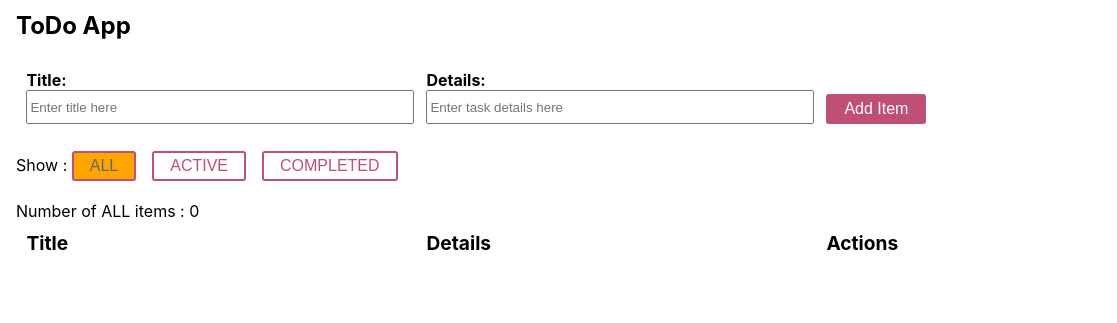
Test case: App › render App component with ACTIVE button click
This screenshot has width=1117, height=323.
Type "title" into the field with placeholder "Enter title here". click: point(220, 107)
box: [26,90,414,124]
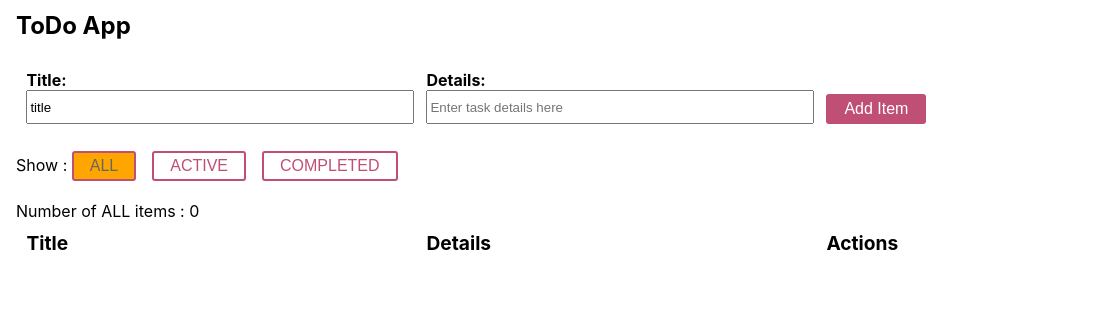
Type "details" into the field with placeholder "Enter task details here". click: point(620, 107)
box: [426,90,814,124]
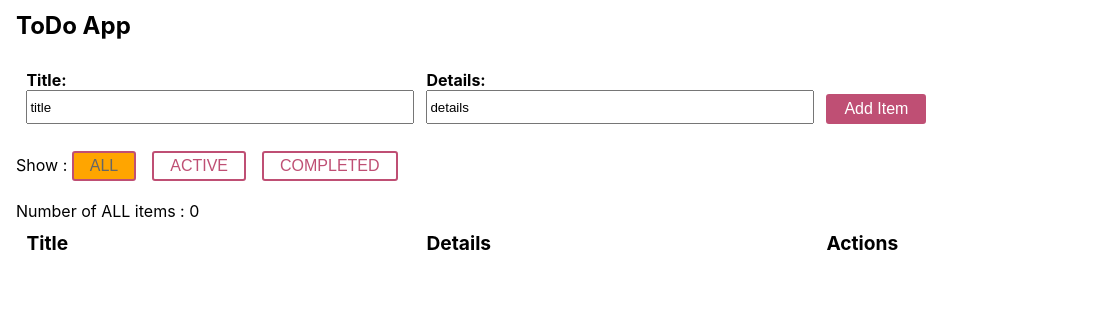
Expected: the text "Number of ALL items : 0" is shown, [16,201,199,221]
Click the button "Add Item". click: point(876, 109)
box: [826,94,926,124]
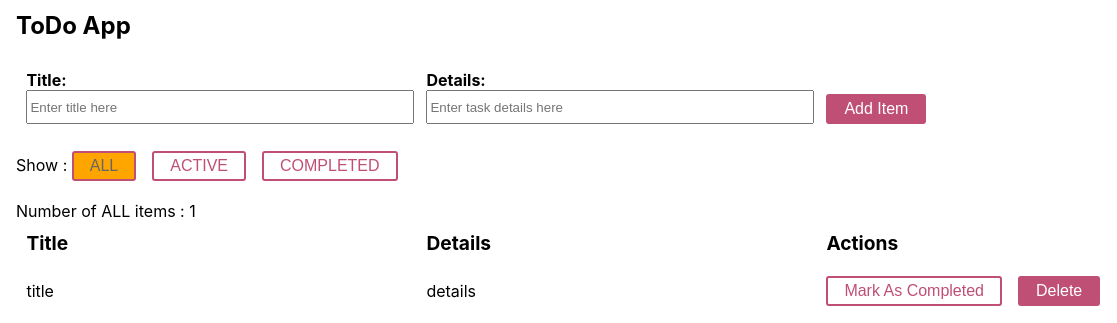
Click the button "ACTIVE". click: point(199, 166)
box: [152,151,246,181]
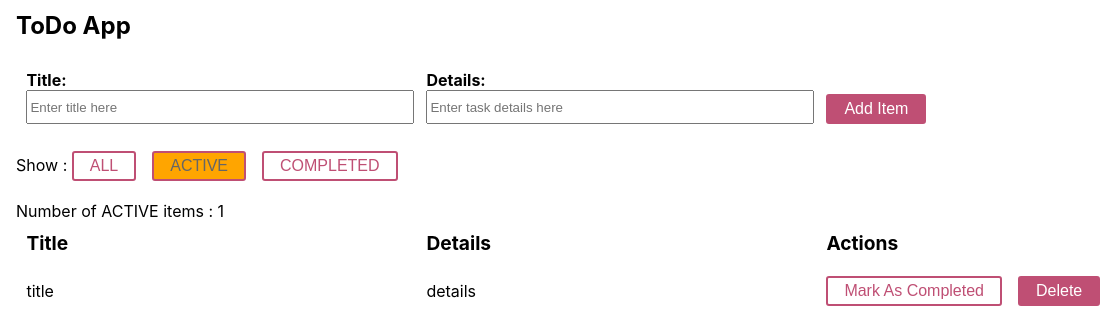
Expected: the text "Number of ACTIVE items : 1" is shown, [16,201,224,221]
